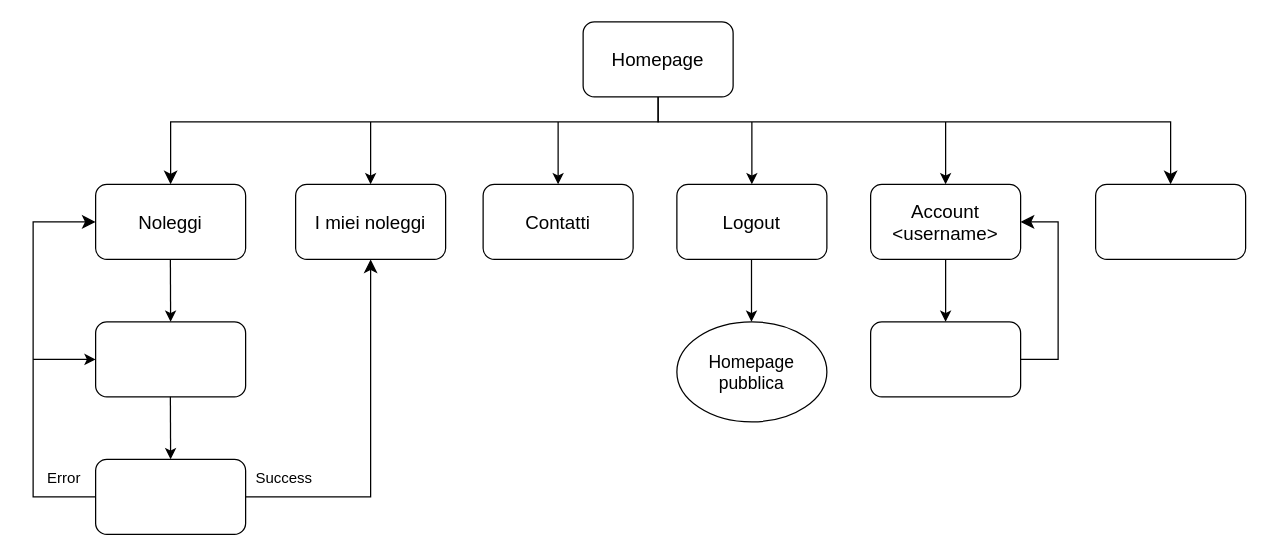
Image size: 1268x556. Some labels were removed from this diagram. The centre of each missing label's shape, as x and y in pixels:
"Dettagli auto" goes at point 170,359.
"Modifica" goes at point 945,359.
"Noleggia auto" goes at point 170,496.
"Scarica la documentazione" goes at point 1170,221.
